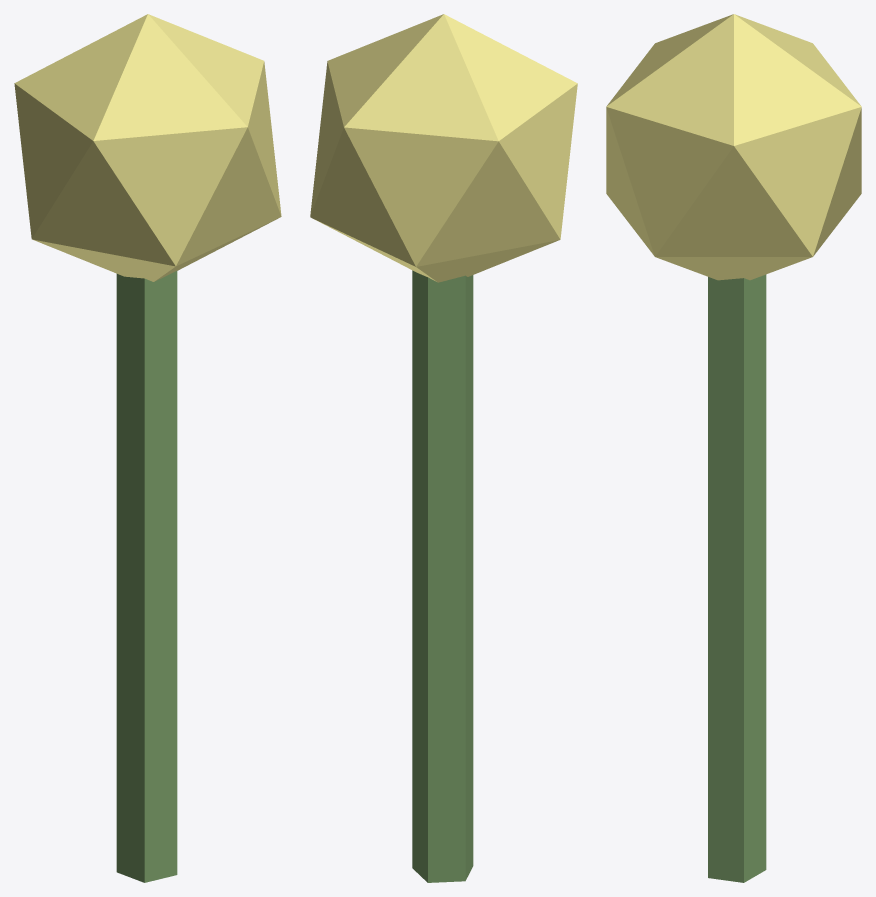
File: Flower.fbx
3 views of the same model, side by side, from view 1: azimuth 30°, elevation 25°; view 2: azimuth 150°, elevation 25°; view 3: azimuth 270°, elevation 25° (orthographic).
Parts seen in each view (by area): view 1: Flower; view 2: Flower; view 3: Flower.
Boxes of the visible parts, x1,y1,x2,y2 form: Flower: (14, 14, 281, 882); Flower: (310, 14, 577, 882); Flower: (606, 14, 861, 882).
Size of the model in its own units: 0.1252 by 0.44 by 0.1191.
